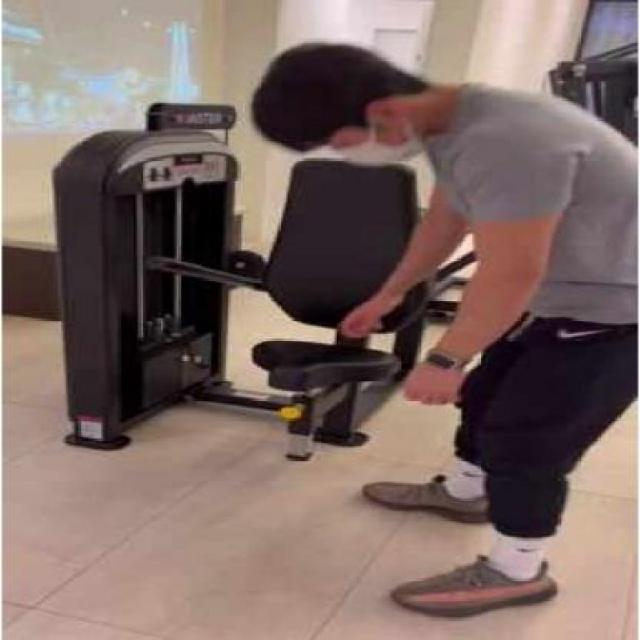seated dip machine: (59, 100, 503, 465)
